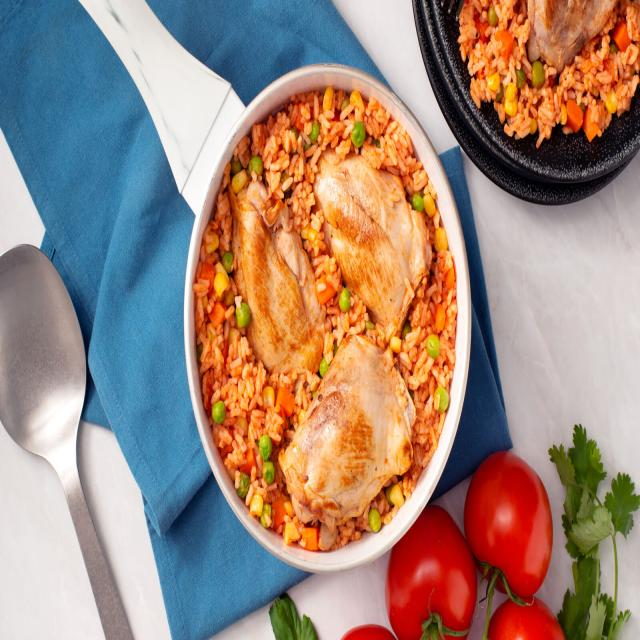pollo: (278, 333, 418, 538), (307, 140, 432, 338)
